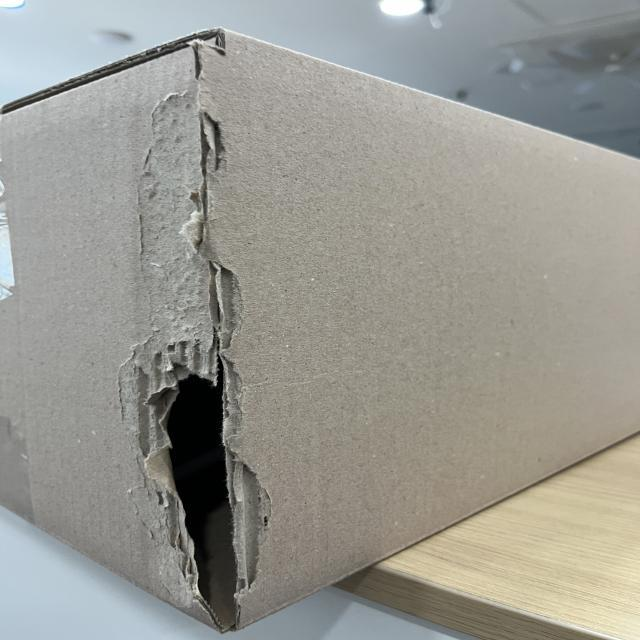hole: (134, 362, 256, 624)
